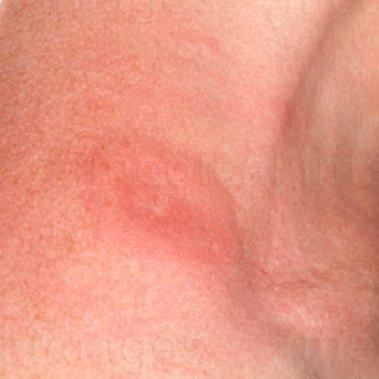Mosquito: (75, 106, 274, 286)
